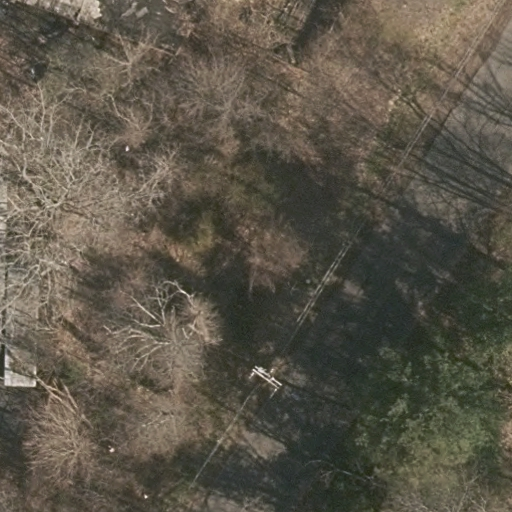DT: (242, 363, 289, 400)
